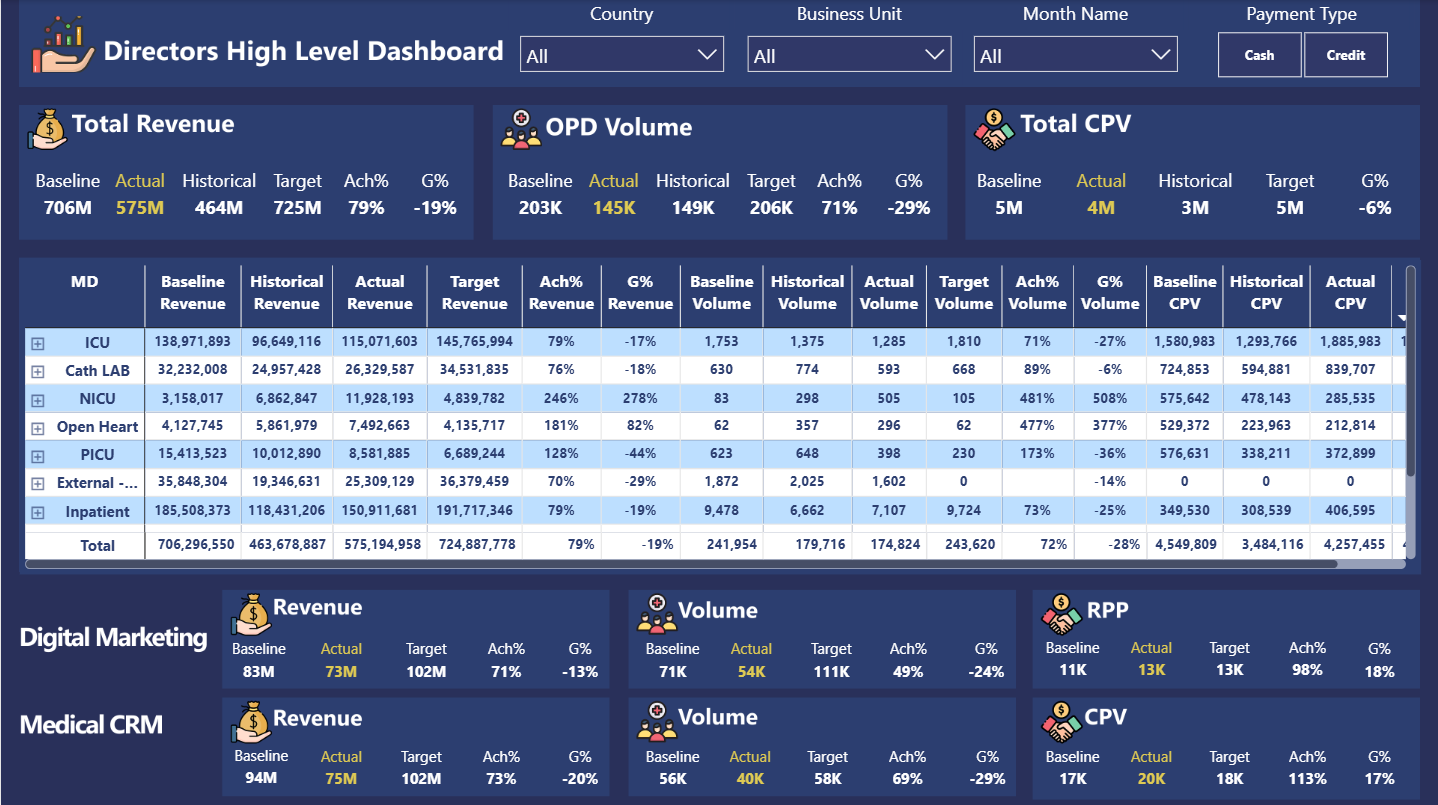

The dashboard page shown, as its layout file describes it:
{"tool":"powerbi","page":{"name":"Page 1","canvas":[1280,720],"ordinal":0},"visuals":[{"type":"slicer","title":"Country ","fields":{"Values":["BU Dim.Country Name"]},"box":[451.5,0,201.7,75.5],"z":0},{"type":"slicer","title":"Business Unit","fields":{"Values":["BU Dim.BU"]},"box":[654.5,0,201.7,75.5],"z":1000},{"type":"slicer","title":"Month Name ","fields":{"Values":["Date Dim.Month Name"]},"box":[856.3,0,201.7,75.5],"z":2000},{"type":"slicer","title":"Payment Type","fields":{"Values":["payment Dim.Payment Type"]},"box":[1058,0,201.7,75.5],"z":3000},{"type":"cardVisual","fields":{"Data":["Medical CRM Fact.G%"]},"box":[460,630.8,112,89.2],"z":4000},{"type":"cardVisual","fields":{"Data":["Medical CRM Fact.Ach%"]},"box":[389.1,630.8,112,89.2],"z":5000},{"type":"cardVisual","fields":{"Data":["Medical CRM Fact.Target"]},"box":[318.3,630.8,112,89.2],"z":6000},{"type":"cardVisual","fields":{"Data":["Medical CRM Fact.Actual"]},"box":[247,631.2,112.5,89.2],"z":7000},{"type":"cardVisual","fields":{"Data":["Medical CRM Fact.Baseline"]},"box":[175.6,629.8,112.5,89.2],"z":8000},{"type":"cardVisual","fields":{"Data":["Medical CRM Fact.vg%"]},"box":[822.3,630.8,112,89.2],"z":9000},{"type":"cardVisual","fields":{"Data":["Medical CRM Fact.vach%"]},"box":[751.5,630.8,112,89.2],"z":10000},{"type":"cardVisual","fields":{"Data":["Medical CRM Fact.vtarget"]},"box":[680.7,630.8,112,89.2],"z":11000},{"type":"cardVisual","fields":{"Data":["Medical CRM Fact.vactual"]},"box":[610.6,630.8,112.5,89.2],"z":12000},{"type":"cardVisual","fields":{"Data":["Medical CRM Fact.vbaseline"]},"box":[542,631.2,112.5,89.2],"z":13000},{"type":"cardVisual","fields":{"Data":["Medical CRM Fact.cpvg%"]},"box":[1177.1,630.8,102.9,89.2],"z":14000},{"type":"cardVisual","fields":{"Data":["Medical CRM Fact.cpvach%"]},"box":[1107.2,630.8,112.5,89.2],"z":15000},{"type":"cardVisual","fields":{"Data":["Medical CRM Fact.cpvtarget"]},"box":[1038.6,630.8,111.1,89.2],"z":16000},{"type":"cardVisual","fields":{"Data":["Medical CRM Fact.cpvactual"]},"box":[968.7,630.8,112.5,89.2],"z":17000},{"type":"cardVisual","fields":{"Data":["Medical CRM Fact.cpvbaseline"]},"box":[898.8,630.8,112.5,89.2],"z":18000},{"type":"cardVisual","fields":{"Data":["Marketing Fact.RG%"]},"box":[459.7,535.2,112.5,89.2],"z":19000},{"type":"cardVisual","fields":{"Data":["Marketing Fact.RAch%"]},"box":[393.6,535.2,112,89.2],"z":20000},{"type":"cardVisual","fields":{"Data":["Marketing Fact.RTarget"]},"box":[322.8,535.2,112,89.2],"z":21000},{"type":"cardVisual","fields":{"Data":["Marketing Fact.RActual"]},"box":[247,535.2,112.5,89.2],"z":22000},{"type":"cardVisual","fields":{"Data":["Marketing Fact.RBaseline"]},"box":[174.1,535.2,112.5,89.2],"z":23000},{"type":"cardVisual","fields":{"Data":["Marketing Fact.V G%"]},"box":[822,535.2,112.5,89.2],"z":24000},{"type":"cardVisual","fields":{"Data":["Marketing Fact.V Ach%"]},"box":[752,535.2,111.1,89.2],"z":25000},{"type":"cardVisual","fields":{"Data":["Marketing Fact.V Target"]},"box":[683.4,535.2,112.5,89.2],"z":26000},{"type":"cardVisual","fields":{"Data":["Marketing Fact.V Actual"]},"box":[612,535.2,112.5,89.2],"z":27000},{"type":"cardVisual","fields":{"Data":["Marketing Fact.VBaeline"]},"box":[542,535.2,112.5,89.2],"z":28000},{"type":"cardVisual","fields":{"Data":["Marketing Fact.ppG%"]},"box":[1177.1,535.2,102.9,89.2],"z":29000},{"type":"cardVisual","fields":{"Data":["Marketing Fact.ppAch%"]},"box":[1107.1,534.5,112.5,89.2],"z":30000},{"type":"cardVisual","fields":{"Data":["Marketing Fact.ppTarget"]},"box":[1038.6,534.5,111.1,89.2],"z":31000},{"type":"cardVisual","fields":{"Data":["Marketing Fact.ppActual"]},"box":[968.7,534.5,112.5,89.2],"z":32000},{"type":"cardVisual","fields":{"Data":["Marketing Fact.ppBaseline"]},"box":[898.8,534.5,112.5,89.2],"z":33000},{"type":"cardVisual","fields":{"Data":["Billing Fact.T R G%"]},"box":[330.7,120.7,112.5,89.2],"z":34000},{"type":"cardVisual","fields":{"Data":["Billing Fact.T R Ach%"]},"box":[269.6,120.7,112,89.2],"z":35000},{"type":"cardVisual","fields":{"Data":["Billing Fact.T R Target"]},"box":[208.1,120.7,112.5,89.2],"z":36000},{"type":"cardVisual","fields":{"Data":["Billing Fact.T R Actual"]},"box":[68.4,120.7,112.5,89.2],"z":37000},{"type":"cardVisual","fields":{"Data":["Billing Fact.Total R Baseline"]},"box":[0,120.7,119.4,89.2],"z":38000},{"type":"cardVisual","fields":{"Data":["Billing Fact.T R Historical"]},"box":[130,120.7,129,89.2],"z":39000},{"type":"cardVisual","fields":{"Data":["Billing Fact.OPD G%"]},"box":[752,120.8,112.5,89.2],"z":40000},{"type":"cardVisual","fields":{"Data":["Billing Fact.OPD Ach%"]},"box":[691.6,120.8,111.1,89.2],"z":41000},{"type":"cardVisual","fields":{"Data":["Billing Fact.OPD Target"]},"box":[629.8,120.8,112.5,89.2],"z":42000},{"type":"cardVisual","fields":{"Data":["Billing Fact.OPD Actual"]},"box":[489.9,120.8,112.5,89.2],"z":43000},{"type":"cardVisual","fields":{"Data":["Billing Fact.OPD Baseline"]},"box":[421.3,120.8,119.4,89.2],"z":44000},{"type":"cardVisual","fields":{"Data":["Billing Fact.OPD Historical"]},"box":[551.6,120.8,129,89.2],"z":45000},{"type":"cardVisual","fields":{"Data":["Billing Fact.T CPV G%"]},"box":[1167.5,120.8,112.5,89.2],"z":46000},{"type":"cardVisual","fields":{"Data":["Billing Fact.T CPV Target"]},"box":[1091.7,120.8,112.5,89.2],"z":47000},{"type":"cardVisual","fields":{"Data":["Billing Fact.T CPV Actual"]},"box":[923.8,120.8,112.5,89.2],"z":48000},{"type":"cardVisual","fields":{"Data":["Billing Fact.T CVP Baseline"]},"box":[838.4,120.8,119.4,89.2],"z":49000},{"type":"cardVisual","fields":{"Data":["Billing Fact.T CPV Historical"]},"box":[999.5,120.8,129,89.2],"z":50000},{"type":"pivotTable","fields":{"Rows":["UM department name Dim.Unified Medical Department Name","payment Dim.Payment Type"],"Values":["Sum(Billing Fact.Baseline Revenue)","Sum(Billing Fact.Historical Revenue)","Sum(Billing Fact.Actual Revenue)","Sum(Billing Fact.Target Revenue)","Billing Fact.T R Ach%","Billing Fact.T R G%","Sum(Billing Fact.Baseline Volume)","Sum(Billing Fact.Historical Volume)","Sum(Billing Fact.Actual Volume)","Sum(Billing Fact.Target Volume)","Billing Fact.VOLUME Ach%","Billing Fact.Volume G%"]},"box":[16.5,231.9,1248,280],"z":51000}]}

Visuals, with their boxes in screenshot pixels (x1, y1, x2, y2), scaled from the page's 1280x720 canvas onto the 1438x805 screenshot:
"Country " slicer: detection(507, 0, 734, 84)
"Business Unit" slicer: detection(735, 0, 962, 84)
"Month Name " slicer: detection(962, 0, 1189, 84)
"Payment Type" slicer: detection(1189, 0, 1415, 84)
cardVisual - Medical CRM Fact.G%: detection(517, 705, 643, 804)
cardVisual - Medical CRM Fact.Ach%: detection(437, 705, 563, 804)
cardVisual - Medical CRM Fact.Target: detection(358, 705, 483, 804)
cardVisual - Medical CRM Fact.Actual: detection(277, 706, 404, 804)
cardVisual - Medical CRM Fact.Baseline: detection(197, 704, 324, 804)
cardVisual - Medical CRM Fact.vg%: detection(924, 705, 1050, 804)
cardVisual - Medical CRM Fact.vach%: detection(844, 705, 970, 804)
cardVisual - Medical CRM Fact.vtarget: detection(765, 705, 891, 804)
cardVisual - Medical CRM Fact.vactual: detection(686, 705, 812, 804)
cardVisual - Medical CRM Fact.vbaseline: detection(609, 706, 735, 804)
cardVisual - Medical CRM Fact.cpvg%: detection(1322, 705, 1437, 804)
cardVisual - Medical CRM Fact.cpvach%: detection(1244, 705, 1370, 804)
cardVisual - Medical CRM Fact.cpvtarget: detection(1167, 705, 1292, 804)
cardVisual - Medical CRM Fact.cpvactual: detection(1088, 705, 1215, 804)
cardVisual - Medical CRM Fact.cpvbaseline: detection(1010, 705, 1136, 804)
cardVisual - Marketing Fact.RG%: detection(516, 598, 643, 698)
cardVisual - Marketing Fact.RAch%: detection(442, 598, 568, 698)
cardVisual - Marketing Fact.RTarget: detection(363, 598, 488, 698)
cardVisual - Marketing Fact.RActual: detection(277, 598, 404, 698)
cardVisual - Marketing Fact.RBaseline: detection(196, 598, 322, 698)
cardVisual - Marketing Fact.V G%: detection(923, 598, 1050, 698)
cardVisual - Marketing Fact.V Ach%: detection(845, 598, 970, 698)
cardVisual - Marketing Fact.V Target: detection(768, 598, 894, 698)
cardVisual - Marketing Fact.V Actual: detection(688, 598, 814, 698)
cardVisual - Marketing Fact.VBaeline: detection(609, 598, 735, 698)
cardVisual - Marketing Fact.ppG%: detection(1322, 598, 1437, 698)
cardVisual - Marketing Fact.ppAch%: detection(1244, 598, 1370, 697)
cardVisual - Marketing Fact.ppTarget: detection(1167, 598, 1292, 697)
cardVisual - Marketing Fact.ppActual: detection(1088, 598, 1215, 697)
cardVisual - Marketing Fact.ppBaseline: detection(1010, 598, 1136, 697)
cardVisual - Billing Fact.T R G%: detection(372, 135, 498, 235)
cardVisual - Billing Fact.T R Ach%: detection(303, 135, 429, 235)
cardVisual - Billing Fact.T R Target: detection(234, 135, 360, 235)
cardVisual - Billing Fact.T R Actual: detection(77, 135, 203, 235)
cardVisual - Billing Fact.Total R Baseline: detection(0, 135, 134, 235)
cardVisual - Billing Fact.T R Historical: detection(146, 135, 291, 235)
cardVisual - Billing Fact.OPD G%: detection(845, 135, 971, 235)
cardVisual - Billing Fact.OPD Ach%: detection(777, 135, 902, 235)
cardVisual - Billing Fact.OPD Target: detection(708, 135, 834, 235)
cardVisual - Billing Fact.OPD Actual: detection(550, 135, 677, 235)
cardVisual - Billing Fact.OPD Baseline: detection(473, 135, 607, 235)
cardVisual - Billing Fact.OPD Historical: detection(620, 135, 765, 235)
cardVisual - Billing Fact.T CPV G%: detection(1312, 135, 1437, 235)
cardVisual - Billing Fact.T CPV Target: detection(1226, 135, 1353, 235)
cardVisual - Billing Fact.T CPV Actual: detection(1038, 135, 1164, 235)
cardVisual - Billing Fact.T CVP Baseline: detection(942, 135, 1076, 235)
cardVisual - Billing Fact.T CPV Historical: detection(1123, 135, 1268, 235)
pivotTable - UM department name Dim.Unified Medical Department Name x payment Dim.Payment Type: detection(19, 259, 1421, 572)
